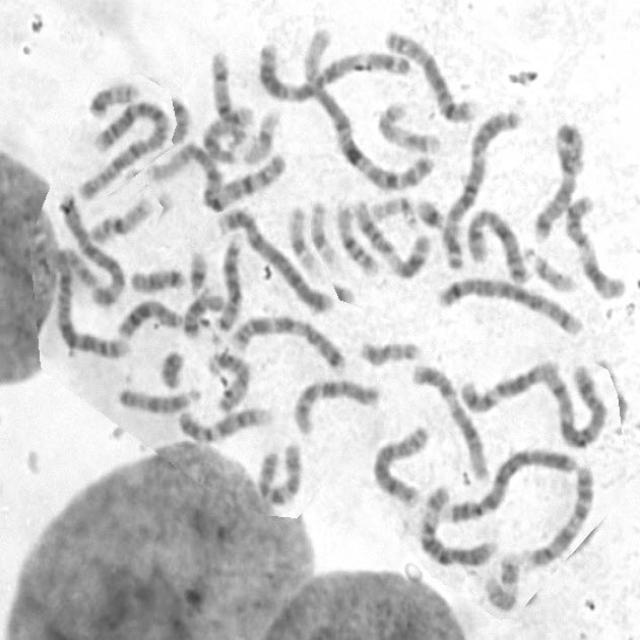A1: (298, 21, 436, 194), (141, 140, 289, 210)
A2: (74, 95, 172, 202), (47, 244, 131, 360)
A3: (435, 104, 523, 270), (251, 36, 410, 103)
B4: (212, 201, 334, 316), (439, 442, 579, 526)
B5: (432, 270, 585, 338), (540, 354, 612, 450)
C10: (287, 372, 381, 436), (252, 436, 305, 509)
C11: (561, 188, 631, 301), (350, 196, 433, 280)
C12: (408, 357, 490, 482), (454, 354, 557, 414)
C6: (54, 187, 127, 309), (413, 477, 500, 569)
C7: (226, 308, 348, 374), (528, 115, 587, 243)
C8: (381, 25, 478, 124), (368, 419, 430, 509)
C9: (516, 460, 596, 572), (173, 400, 273, 446)
D13: (211, 229, 246, 335), (113, 292, 186, 342)
D14: (206, 44, 249, 148), (199, 100, 255, 163)
D15: (203, 345, 252, 414), (113, 380, 202, 416)
E16: (84, 190, 156, 246), (331, 197, 381, 277)
E17: (373, 97, 444, 156), (480, 546, 522, 613)
E18: (180, 286, 225, 340), (125, 262, 186, 294)
F19: (282, 200, 320, 276), (239, 103, 282, 165)
F20: (84, 76, 142, 121), (356, 334, 422, 368)
G21: (412, 192, 448, 232), (184, 246, 210, 295)
G22: (520, 242, 578, 294), (366, 190, 421, 230)
X: (462, 201, 532, 287)
Y: (155, 345, 187, 390)
